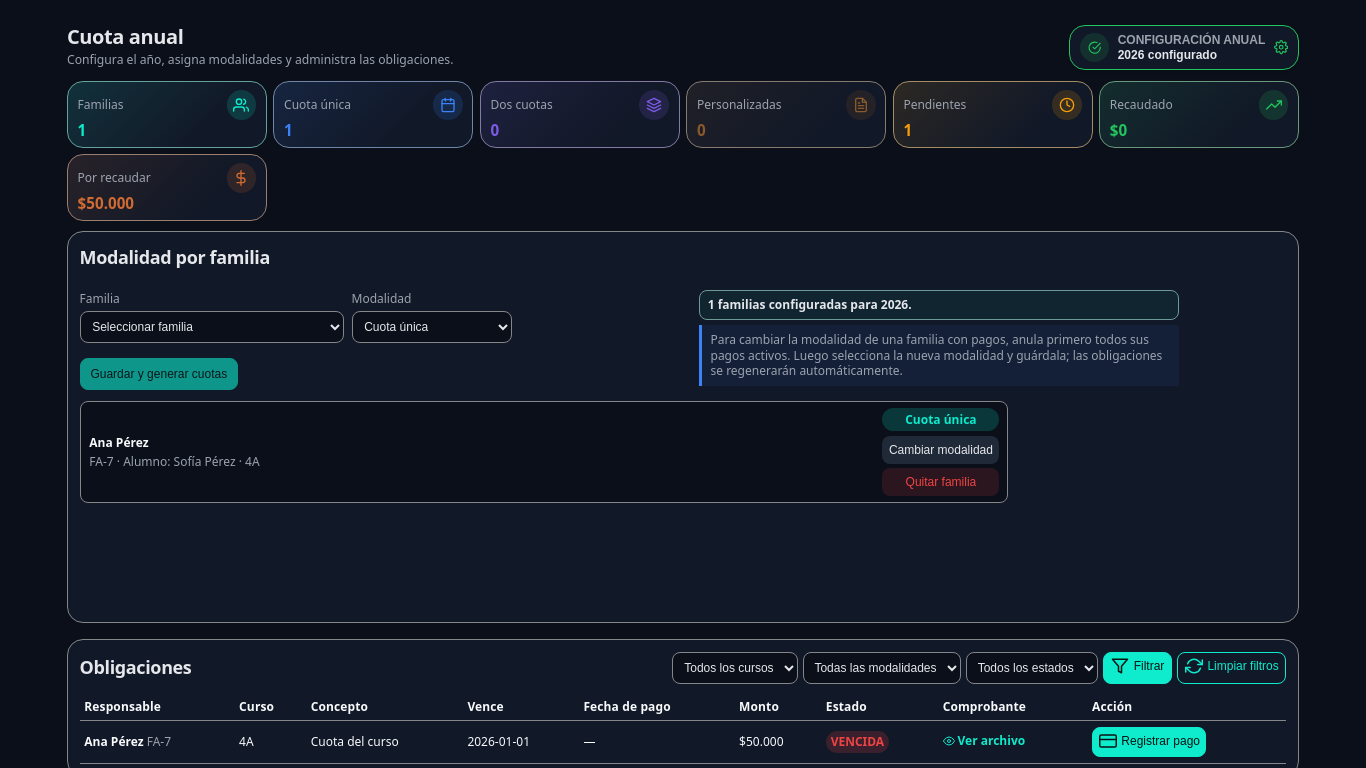
annual fee administration from screen to HTTP › approves an existing PROOF_SUBMITTED proof without uploading or paying twice
Click the button "Registrar pago": [1149, 742] box [1092,727,1206,757]
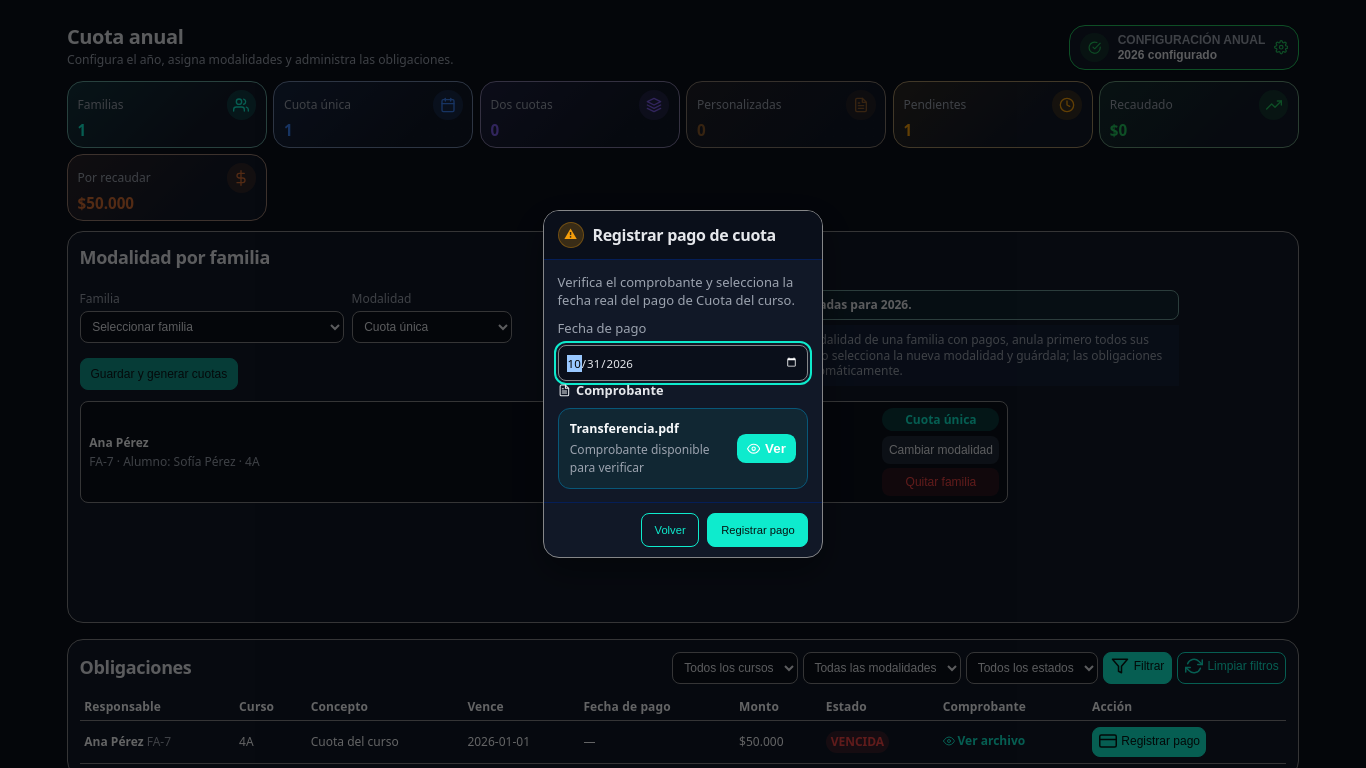
expect the text "Transferencia.pdf" is shown: met, box [570,420,679,437]
Click the button "Registrar pago": [758, 530] box [707,513,808,547]
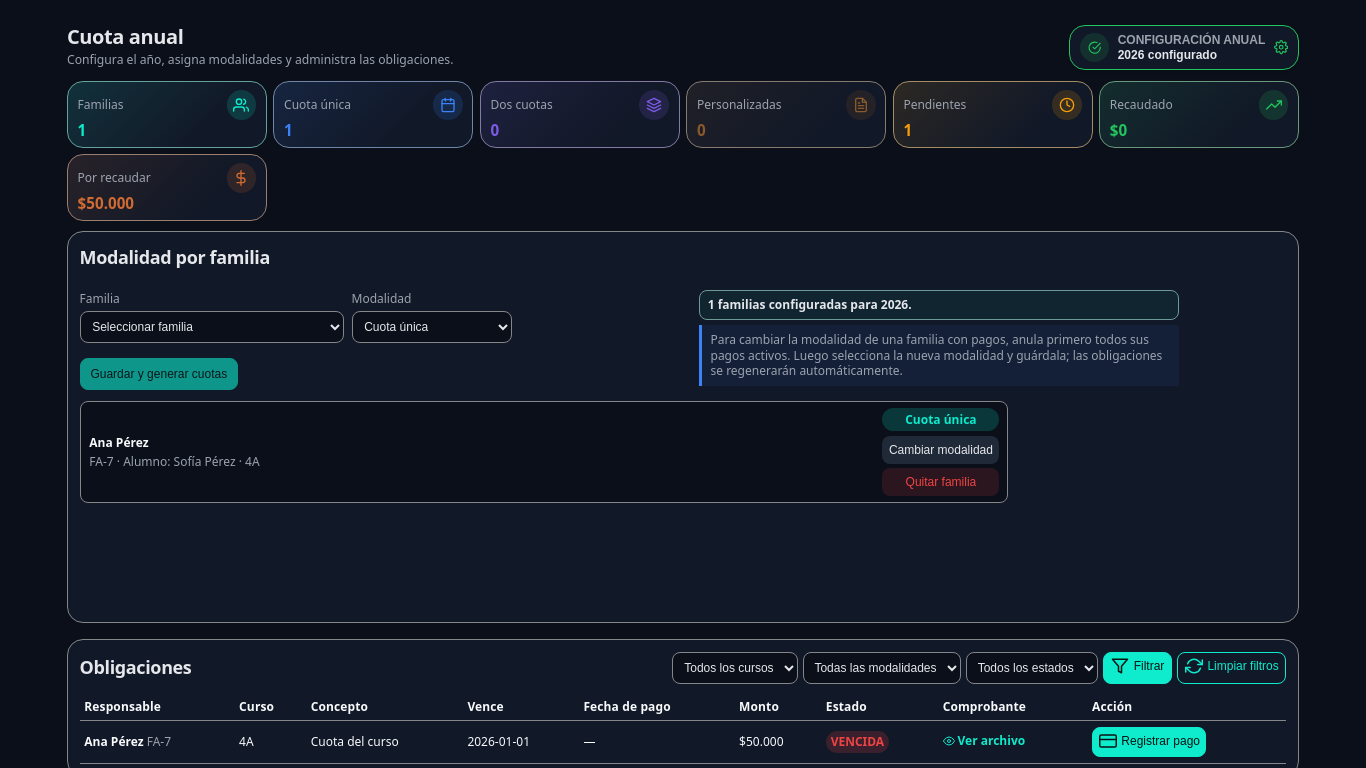
expect the dialog is gone: met
